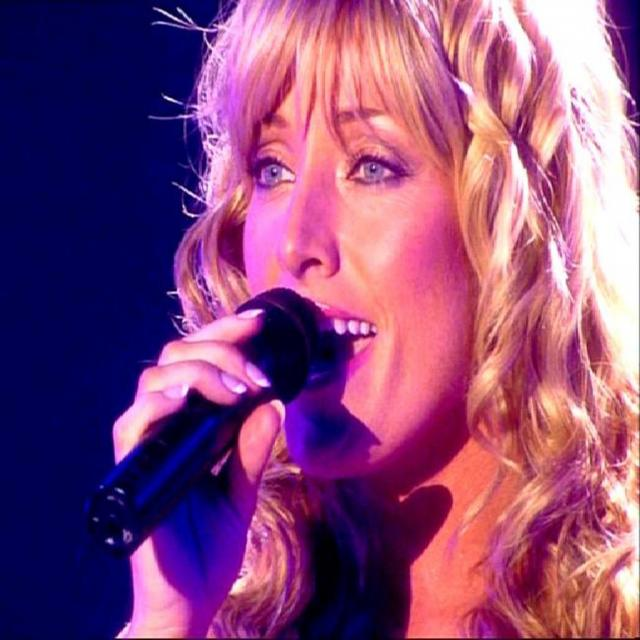nomask: (242, 20, 502, 471)
